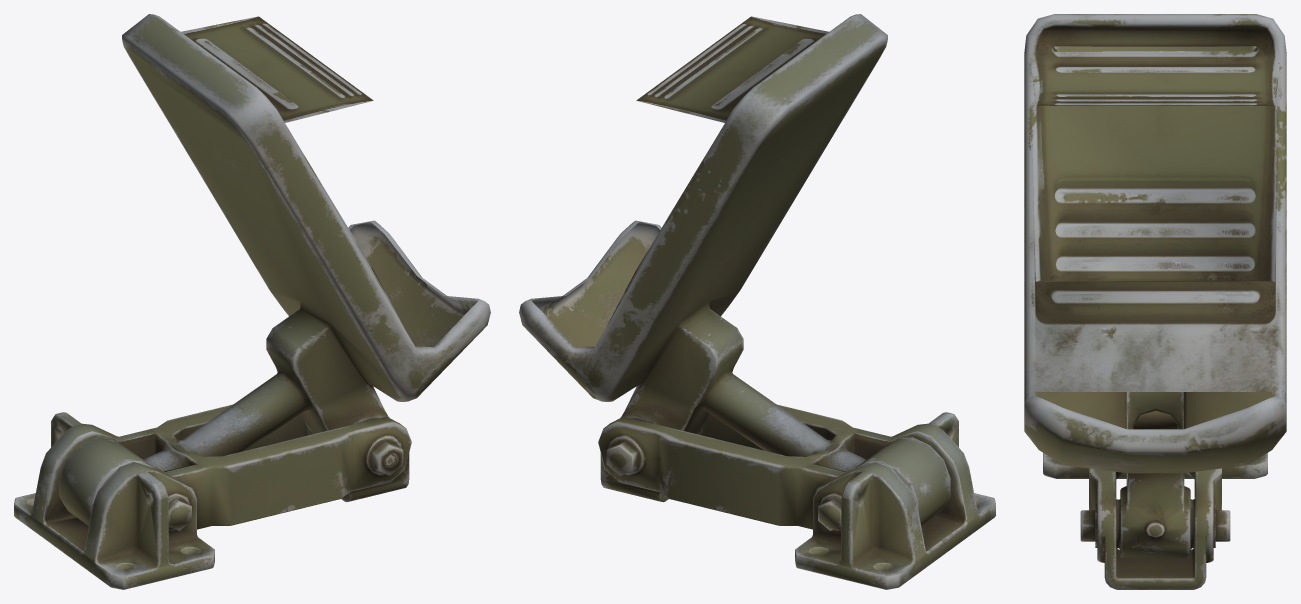
Rendered from pedal_remesh.glb.
3 views of the same model, side by side, from view 1: azimuth 30°, elevation 25°; view 2: azimuth 150°, elevation 25°; view 3: azimuth 270°, elevation 25° (orthographic). The views are drawn at different scales.
Parts seen in each view (by area): view 1: tripo_node_9ede7358-1adf-4570-b588-3bd8e; view 2: tripo_node_9ede7358-1adf-4570-b588-3bd8e; view 3: tripo_node_9ede7358-1adf-4570-b588-3bd8e.
Part boxes in pixels (left/top/right/bottom): tripo_node_9ede7358-1adf-4570-b588-3bd8e: left=14, top=14, right=490, bottom=589; tripo_node_9ede7358-1adf-4570-b588-3bd8e: left=519, top=14, right=995, bottom=589; tripo_node_9ede7358-1adf-4570-b588-3bd8e: left=1024, top=14, right=1286, bottom=589.
Bounding box in the file's own units: 0.8513 × 1 × 0.4912.
Materials: 1 (1 with a texture image).
